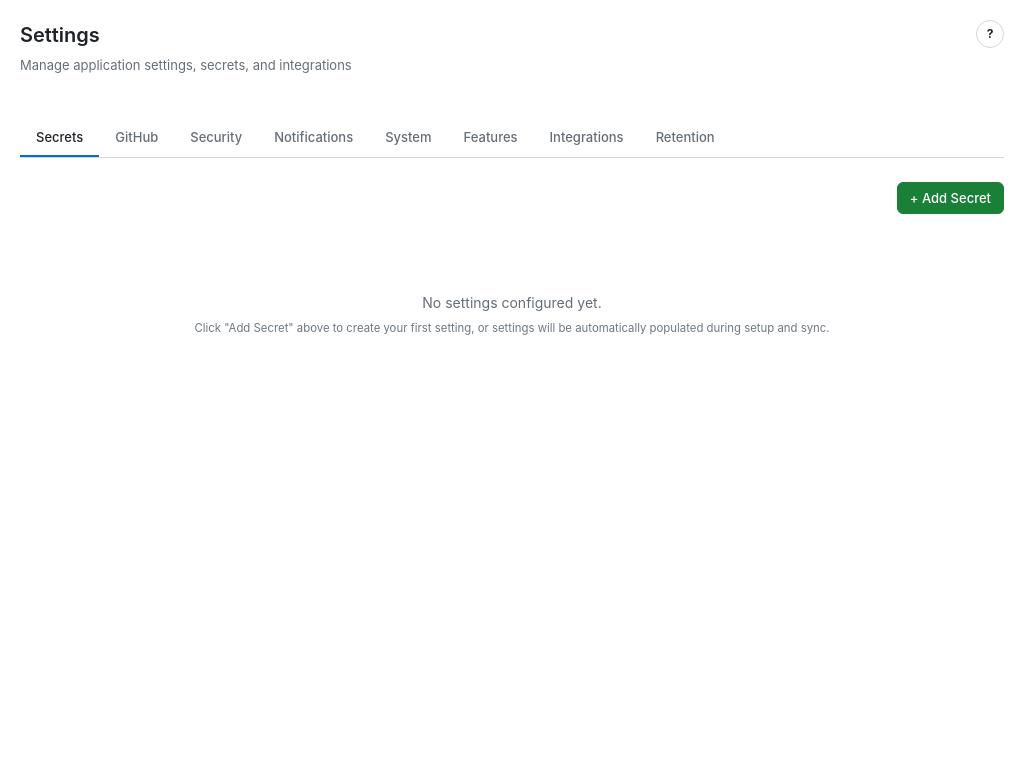
Test: SettingsPage › shows category form controls when category tab is clicked
Click the button "Security".
click(216, 138)  # box [174,120,258,157]
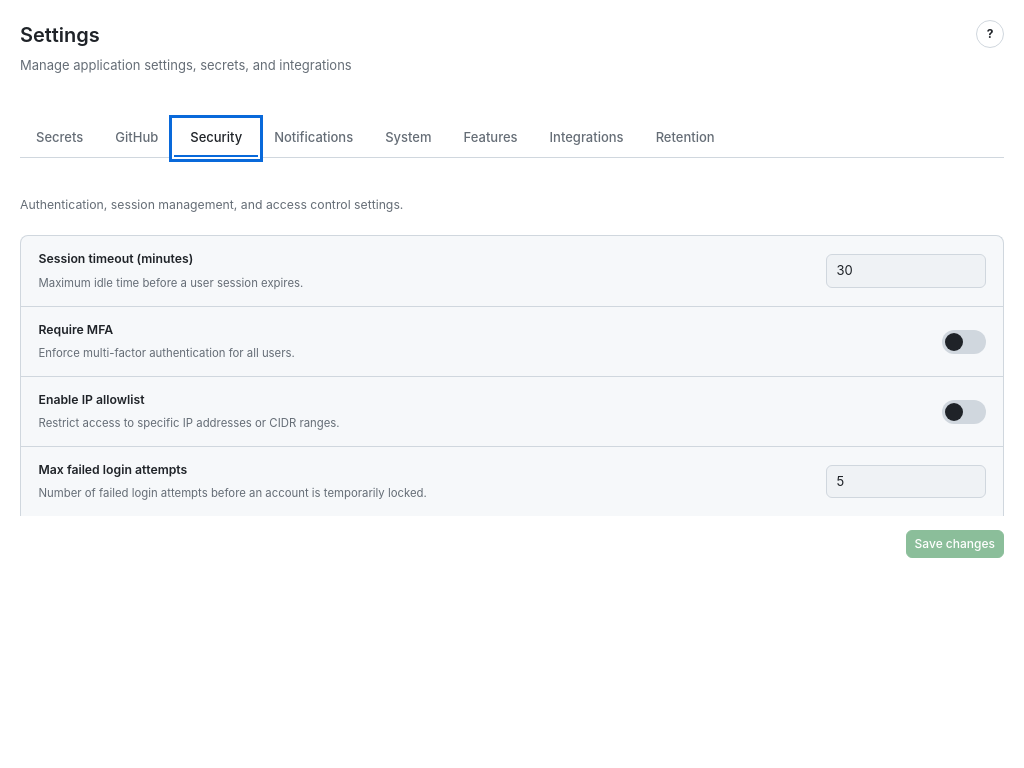
Result: the text "Session timeout (minutes)" is shown at [38,251,193,266]
Result: the checkbox "Require MFA" is shown at [38,322,113,337]
